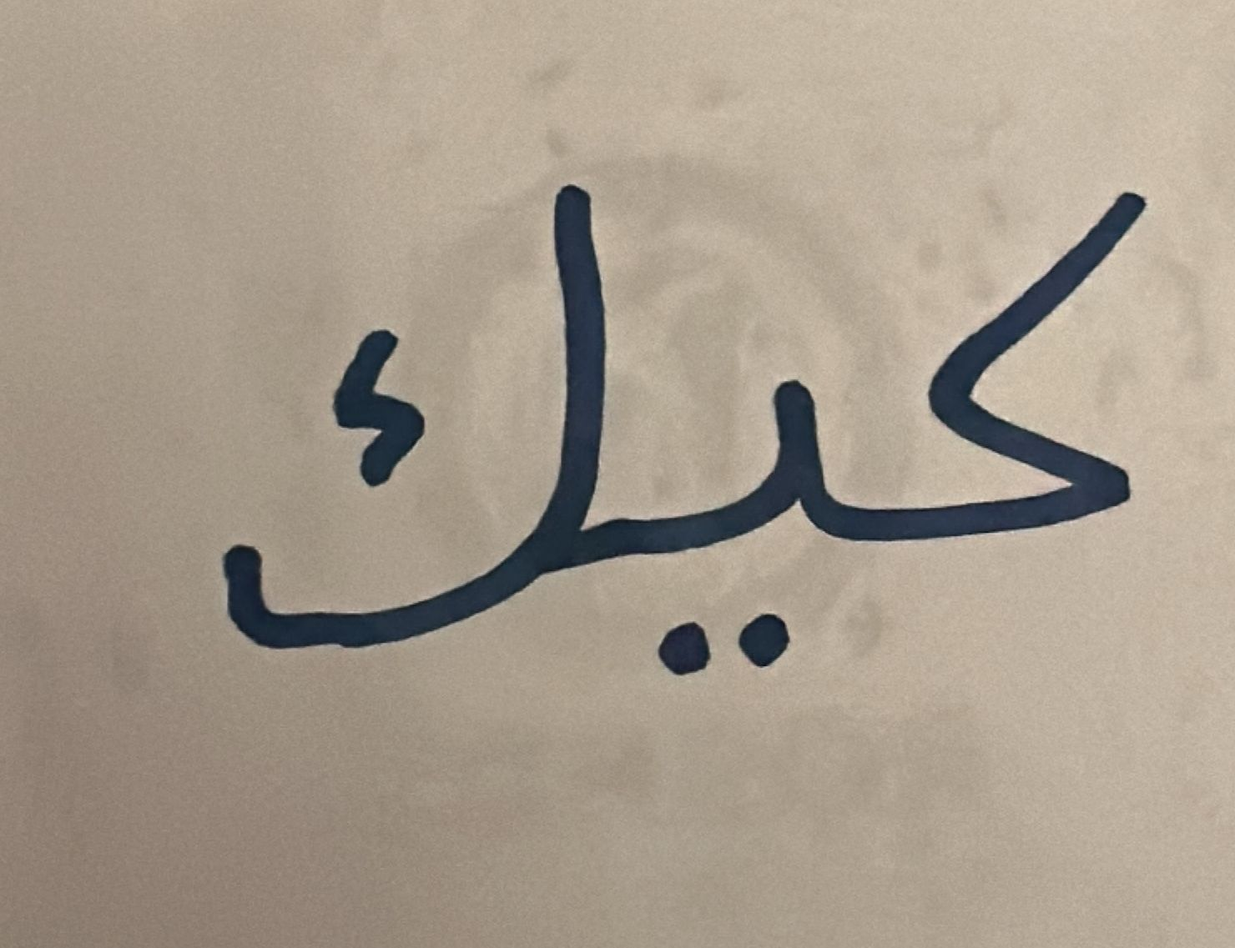khah: (165, 120, 621, 720), (873, 118, 1192, 602)
zah: (626, 239, 869, 711)
